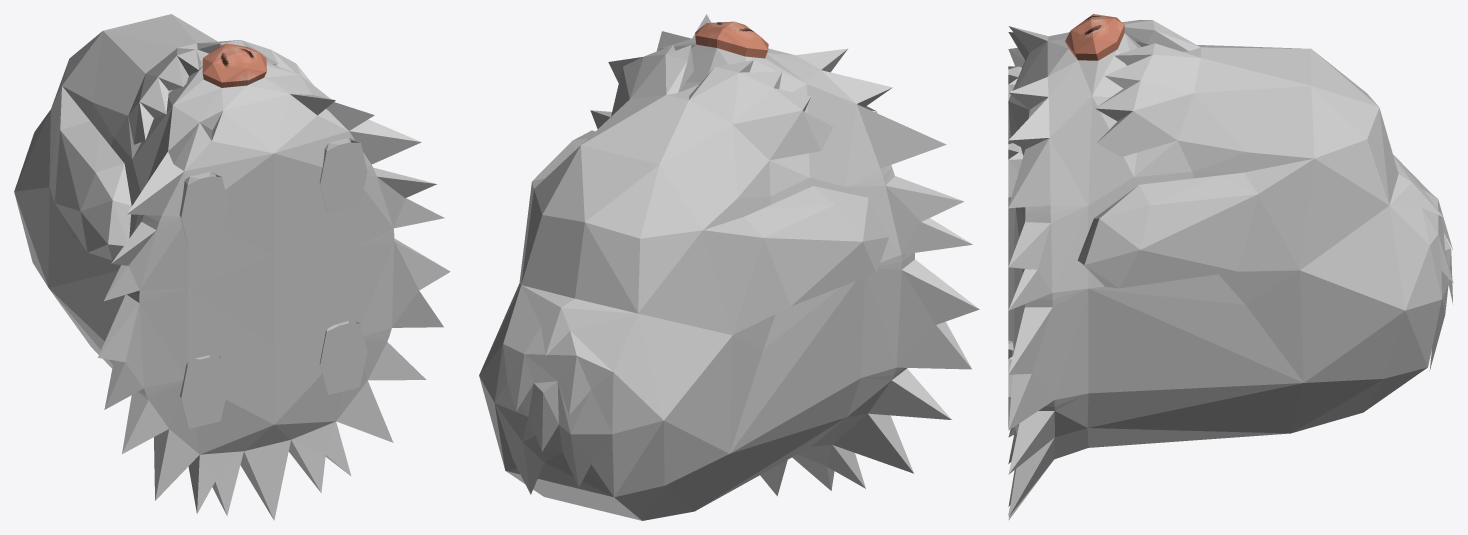
Rendered from BR_Piloswine-Shiny03.obj.
3 views of the same model, side by side, from view 1: azimuth 30°, elevation 25°; view 2: azimuth 150°, elevation 25°; view 3: azimuth 270°, elevation 25° (orthographic). The views are drawn at different scales.
Visible parts, largest first — view 1: inomoo; view 2: inomoo; view 3: inomoo.
Part boxes in pixels (box(x1,y1,x2,y2)): inomoo: box(14, 14, 450, 520); inomoo: box(479, 14, 979, 520); inomoo: box(1008, 14, 1453, 520).
Size of the model in its own units: 11.77 by 14.09 by 11.63.
